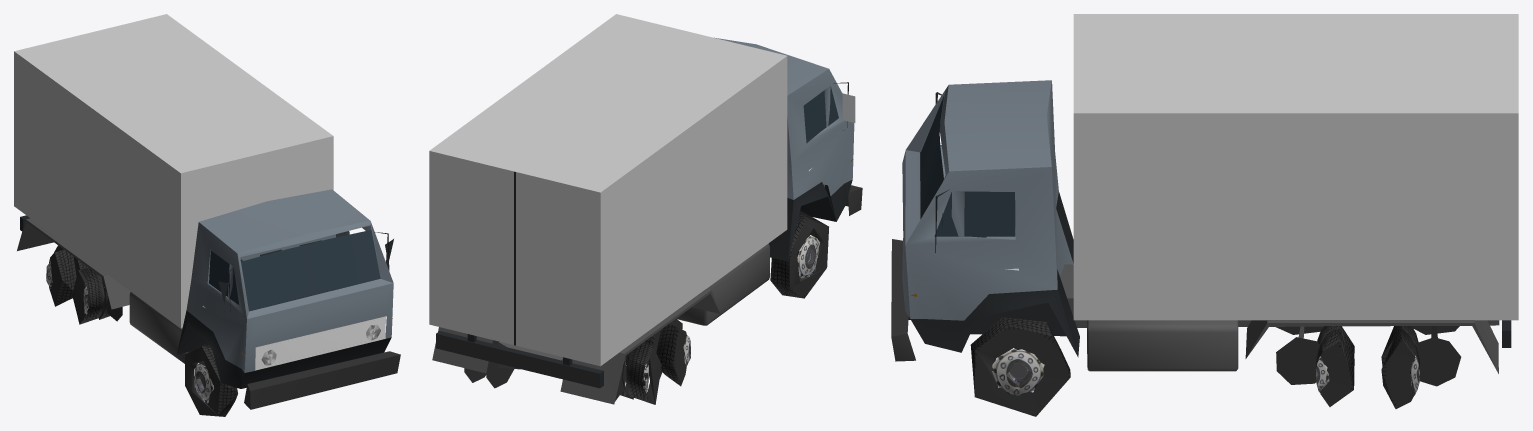
File: truck_far.glb
3 renders of one model, left to right at view 1: azimuth 30°, elevation 25°; view 2: azimuth 150°, elevation 25°; view 3: azimuth 270°, elevation 25°, orthographic. The views are drawn at different scales.
Visible parts, largest first — view 1: trim-white-container-body, paint-red-cabin-body, glass-glass-body, trim-textured-body, rubber-black-plastic-body, trim-grey-metal-body, trim-textured-(False, True), trim-textured-(False, False), alloy-grey-metal-wheels-(False, False), rubber-black-metal-body; view 2: trim-white-container-body, paint-red-cabin-body, trim-grey-metal-body, rubber-black-plastic-body, trim-textured-(False, True), trim-textured-body, trim-textured-(False, False), glass-glass-body, alloy-grey-metal-wheels-body, alloy-grey-metal-wheels-(False, False); view 3: trim-white-container-body, paint-red-cabin-body, trim-grey-metal-body, rubber-black-plastic-body, trim-textured-(True, False), trim-textured-(True, True), glass-glass-body, alloy-grey-metal-wheels-body, alloy-grey-metal-wheels-(True, False), trim-textured-body, alloy-grey-metal-wheels-(True, True).
Part boxes in pixels (bbox=[...]): trim-white-container-body: bbox=[14, 14, 333, 328]; paint-red-cabin-body: bbox=[186, 189, 393, 372]; glass-glass-body: bbox=[209, 230, 380, 310]; trim-textured-body: bbox=[244, 316, 400, 409]; rubber-black-plastic-body: bbox=[20, 215, 391, 388]; trim-grey-metal-body: bbox=[17, 218, 189, 363]; trim-textured-(False, True): bbox=[49, 249, 109, 324]; trim-textured-(False, False): bbox=[185, 343, 237, 416]; alloy-grey-metal-wheels-(False, False): bbox=[194, 364, 213, 403]; rubber-black-metal-body: bbox=[218, 232, 393, 316]; trim-white-container-body: bbox=[429, 14, 787, 366]; paint-red-cabin-body: bbox=[714, 37, 854, 199]; trim-grey-metal-body: bbox=[432, 243, 769, 404]; rubber-black-plastic-body: bbox=[436, 171, 852, 387]; trim-textured-(False, True): bbox=[620, 323, 688, 404]; trim-textured-body: bbox=[436, 185, 862, 388]; trim-textured-(False, False): bbox=[770, 210, 828, 298]; glass-glass-body: bbox=[803, 86, 838, 141]; alloy-grey-metal-wheels-body: bbox=[464, 168, 811, 401]; alloy-grey-metal-wheels-(False, False): bbox=[797, 236, 819, 278]; trim-white-container-body: bbox=[1073, 14, 1518, 320]; paint-red-cabin-body: bbox=[902, 80, 1073, 320]; trim-grey-metal-body: bbox=[1060, 264, 1499, 373]; rubber-black-plastic-body: bbox=[910, 152, 1511, 357]; trim-textured-(True, False): bbox=[970, 317, 1070, 416]; trim-textured-(True, True): bbox=[1316, 326, 1419, 408]; glass-glass-body: bbox=[920, 96, 1015, 236]; alloy-grey-metal-wheels-body: bbox=[1005, 268, 1461, 386]; alloy-grey-metal-wheels-(True, False): bbox=[992, 349, 1044, 395]; trim-textured-body: bbox=[891, 239, 915, 361]; alloy-grey-metal-wheels-(True, True): bbox=[1316, 355, 1419, 395].
Size of the model in its own units: 2.72 by 3.4 by 6.3.
10 materials, 2 textured.
